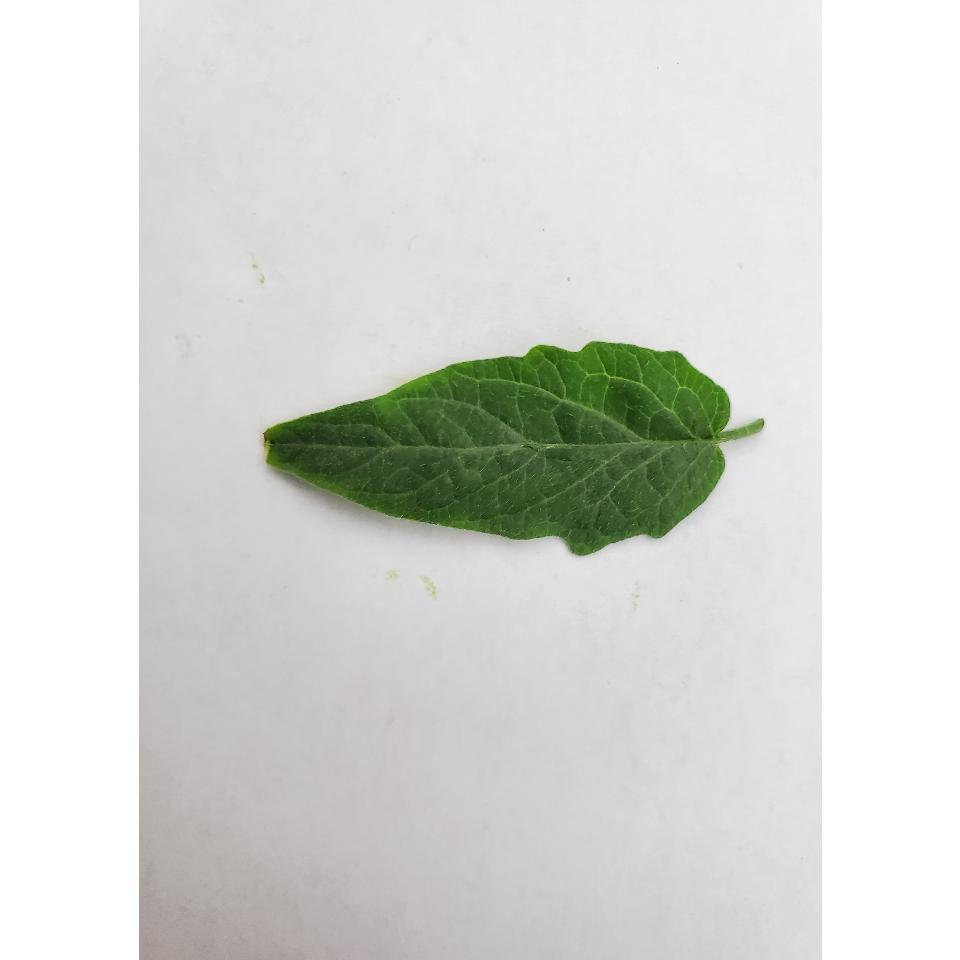tomato_leaves: (267, 337, 765, 553)
